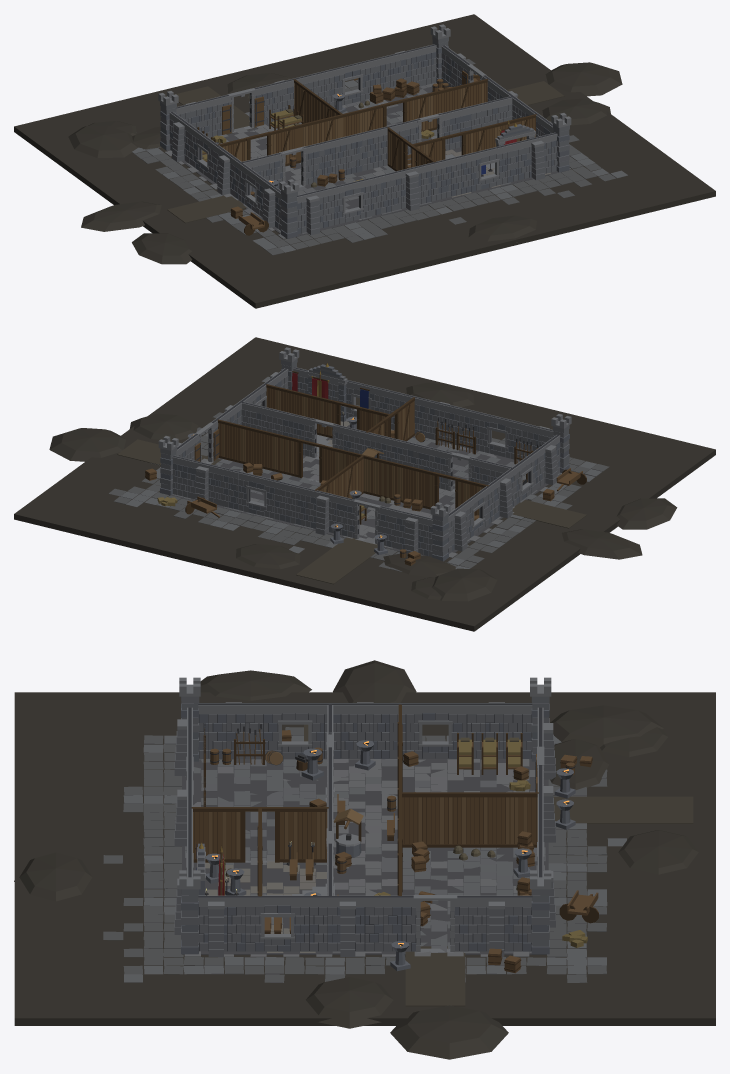
File: compound.glb
3 views of the same model, one above another, from view 1: azimuth 30°, elevation 25°; view 2: azimuth 150°, elevation 25°; view 3: azimuth 270°, elevation 25° (orthographic). The views are drawn at different scales.
Parts seen in each view (by area): view 1: Compound_Ground, Compound_Apron, Compound_Trim, Compound_Dressing, Compound_Flagstones, Compound_FloorBed, DoorFrame_gate_main, WindowFrame_win_n2, WindowFrame_win_s1, WindowFrame_win_n1, Compound_ChapelTrim, Panel_hall_n_1_6; view 2: Compound_Ground, Compound_Apron, Compound_Trim, Compound_Dressing, Compound_Flagstones, Compound_FloorBed, Compound_ChapelTrim, DoorFrame_gate_postern, WindowFrame_win_n1, WindowFrame_win_s1; view 3: Compound_Ground, Compound_Apron, Compound_Flagstones, Compound_Dressing, Compound_FloorBed, Compound_Trim, WindowFrame_win_e1, WindowFrame_win_w1, WindowFrame_win_w2, Panel_ext_e_1_2, Panel_ext_e_1_5, Panel_ext_e_2_1 (+40 smaller).
Boxes of the visible parts, left/top/right/bottom form: Compound_Ground: left=14, top=14, right=715, bottom=308; Compound_Apron: left=132, top=59, right=627, bottom=255; Compound_Trim: left=158, top=24, right=571, bottom=238; Compound_Dressing: left=197, top=74, right=517, bottom=235; Compound_Flagstones: left=164, top=82, right=570, bottom=239; Compound_FloorBed: left=166, top=86, right=568, bottom=238; DoorFrame_gate_main: left=222, top=88, right=264, bottom=134; WindowFrame_win_n2: left=478, top=147, right=499, bottom=189; WindowFrame_win_s1: left=342, top=62, right=363, bottom=104; WindowFrame_win_n1: left=343, top=180, right=363, bottom=222; Compound_ChapelTrim: left=481, top=123, right=535, bottom=174; Panel_hall_n_1_6: left=366, top=129, right=378, bottom=169; Compound_Ground: left=14, top=337, right=715, bottom=631; Compound_Apron: left=108, top=376, right=609, bottom=571; Compound_Trim: left=158, top=347, right=571, bottom=561; Compound_Dressing: left=145, top=411, right=586, bottom=565; Compound_Flagstones: left=172, top=418, right=561, bottom=557; Compound_FloorBed: left=169, top=421, right=561, bottom=557; Compound_ChapelTrim: left=292, top=363, right=369, bottom=421; DoorFrame_gate_postern: left=194, top=422, right=219, bottom=464; WindowFrame_win_n1: left=487, top=415, right=507, bottom=457; WindowFrame_win_s1: left=246, top=474, right=266, bottom=516; Compound_Ground: left=14, top=660, right=715, bottom=1059; Compound_Apron: left=103, top=727, right=626, bottom=982; Compound_Flagstones: left=184, top=758, right=545, bottom=957; Compound_Dressing: left=203, top=722, right=598, bottom=973; Compound_FloorBed: left=182, top=758, right=548, bottom=954; Compound_Trim: left=174, top=677, right=555, bottom=956; WindowFrame_win_e1: left=260, top=895, right=294, bottom=951; WindowFrame_win_w1: left=418, top=703, right=452, bottom=758; WindowFrame_win_w2: left=278, top=703, right=312, bottom=759; Panel_ext_e_1_2: left=365, top=895, right=383, bottom=951; Panel_ext_e_1_5: left=309, top=895, right=327, bottom=951; Panel_ext_e_2_1: left=227, top=895, right=245, bottom=951.
Bounding box in the file's own units: 53.91 × 5.49 × 40.04.
